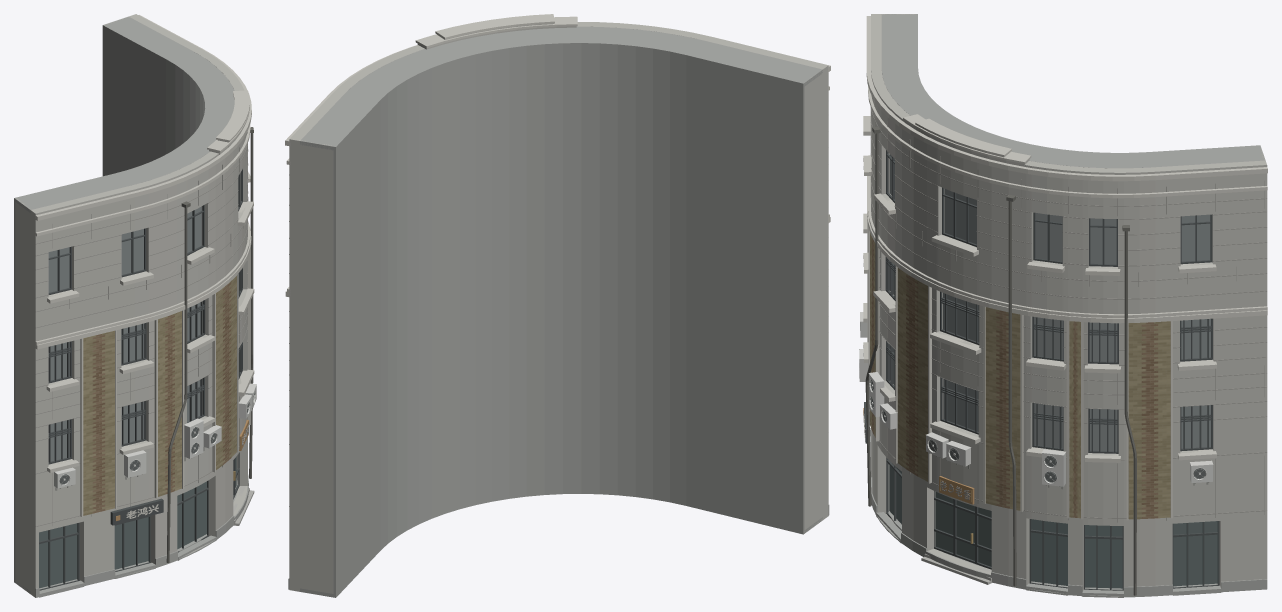
File: huangpu-american-oriental-bank-rounded-corner-lod.glb
The picture shows the model from 3 angles, left to right: view 1: azimuth 30°, elevation 25°; view 2: azimuth 150°, elevation 25°; view 3: azimuth 270°, elevation 25°; orthographic projection. The views are drawn at different scales.
Parts seen in each view (by area): view 1: 上海美丰银行河南中路宁波路弧形转角; view 2: 上海美丰银行河南中路宁波路弧形转角; view 3: 上海美丰银行河南中路宁波路弧形转角.
Part boxes in pixels (x1,y1,x2,y2): 上海美丰银行河南中路宁波路弧形转角: [14, 14, 256, 597]; 上海美丰银行河南中路宁波路弧形转角: [285, 14, 830, 597]; 上海美丰银行河南中路宁波路弧形转角: [859, 14, 1267, 597].
Size of the model in its own units: 12.2 by 15.14 by 13.
Materials: 18 (1 with a texture image).
